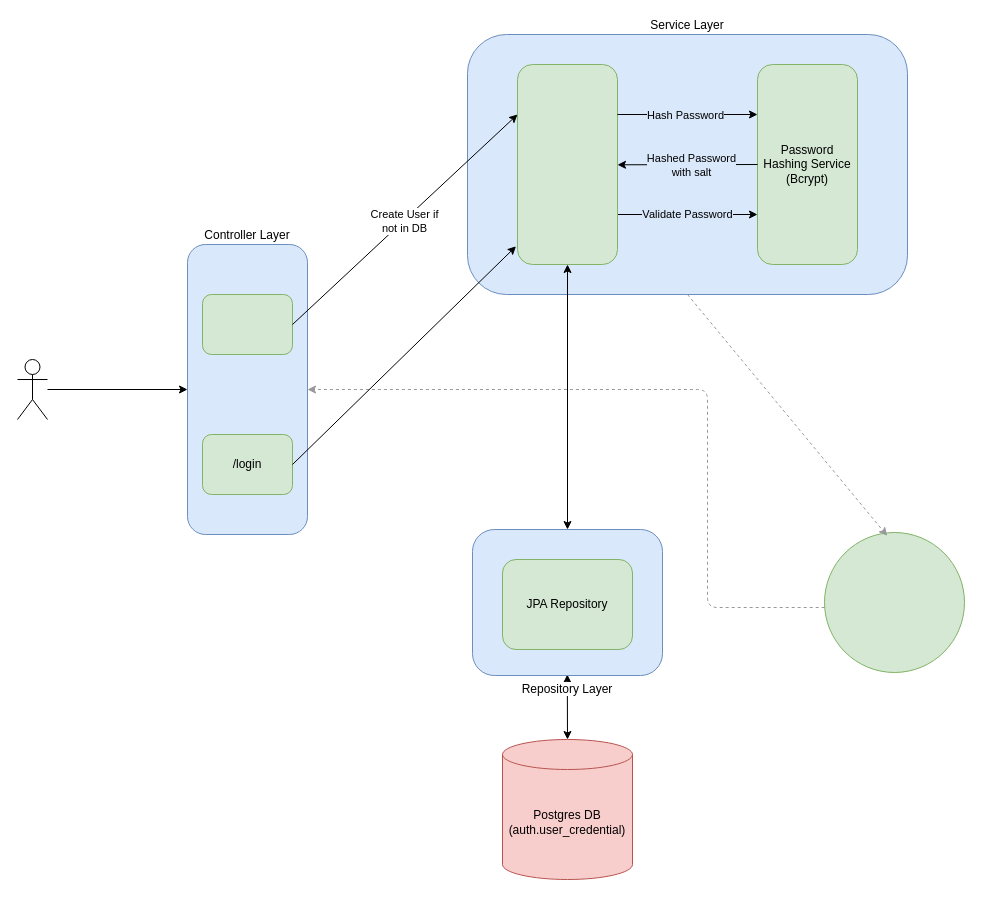
Some shapes in this 982 by 897 pixel diagram are drawn without their labels. Here are the shapes that lost their labels. From the top down, the centre of each, then its label:
At point (567, 164): "Auth Service".
At point (247, 324): "/signup".
At point (32, 389): "User".
At point (894, 602): "Global Exception Handler @ControllerAdvice".
